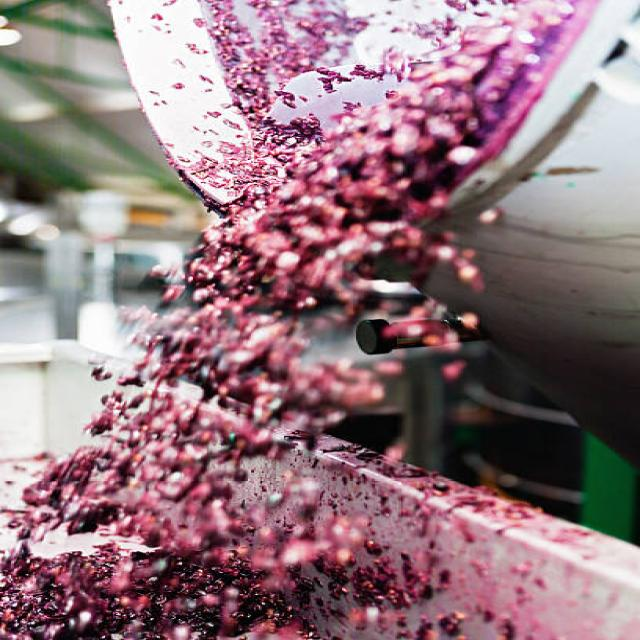trash: (25, 18, 480, 610)
